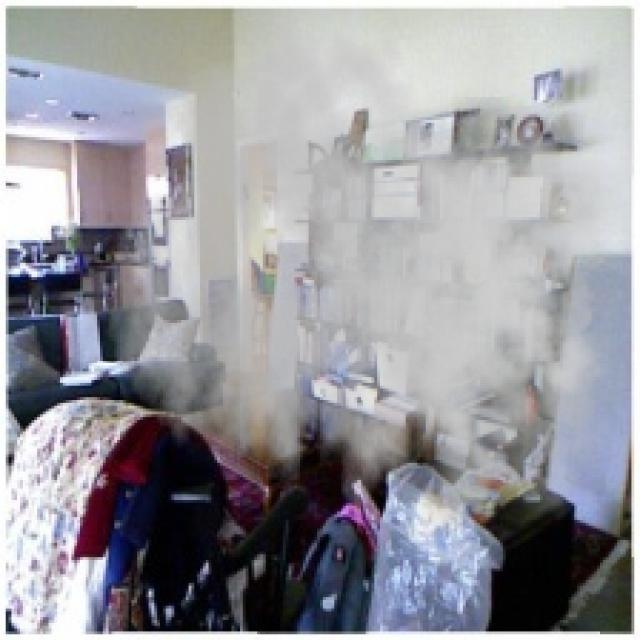Smoke: (105, 14, 638, 552)
